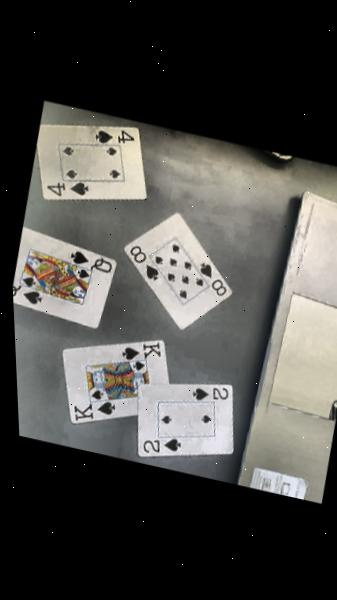2P: (135, 423, 185, 465), (186, 376, 234, 410)
4P: (35, 165, 95, 212), (82, 120, 139, 158)
8P: (189, 253, 244, 307), (118, 230, 164, 291)
KP: (66, 385, 125, 437), (114, 329, 164, 371)
QP: (64, 246, 116, 279), (13, 283, 44, 312)
